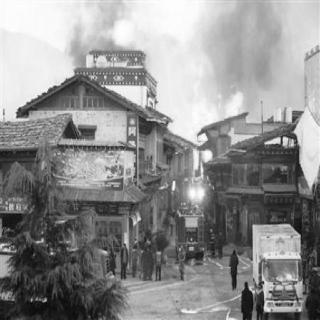Fire: (187, 68, 241, 154)
